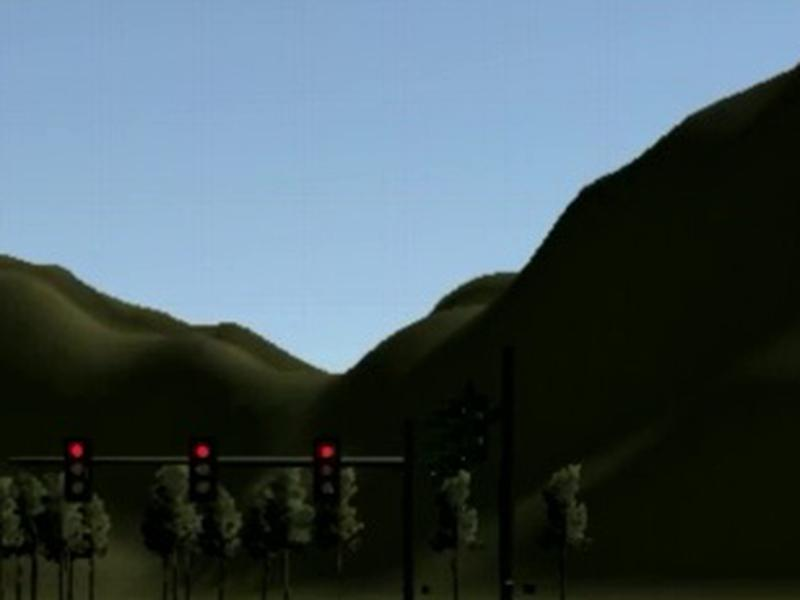Red: (65, 437, 92, 504), (313, 439, 342, 501), (192, 439, 218, 501)
